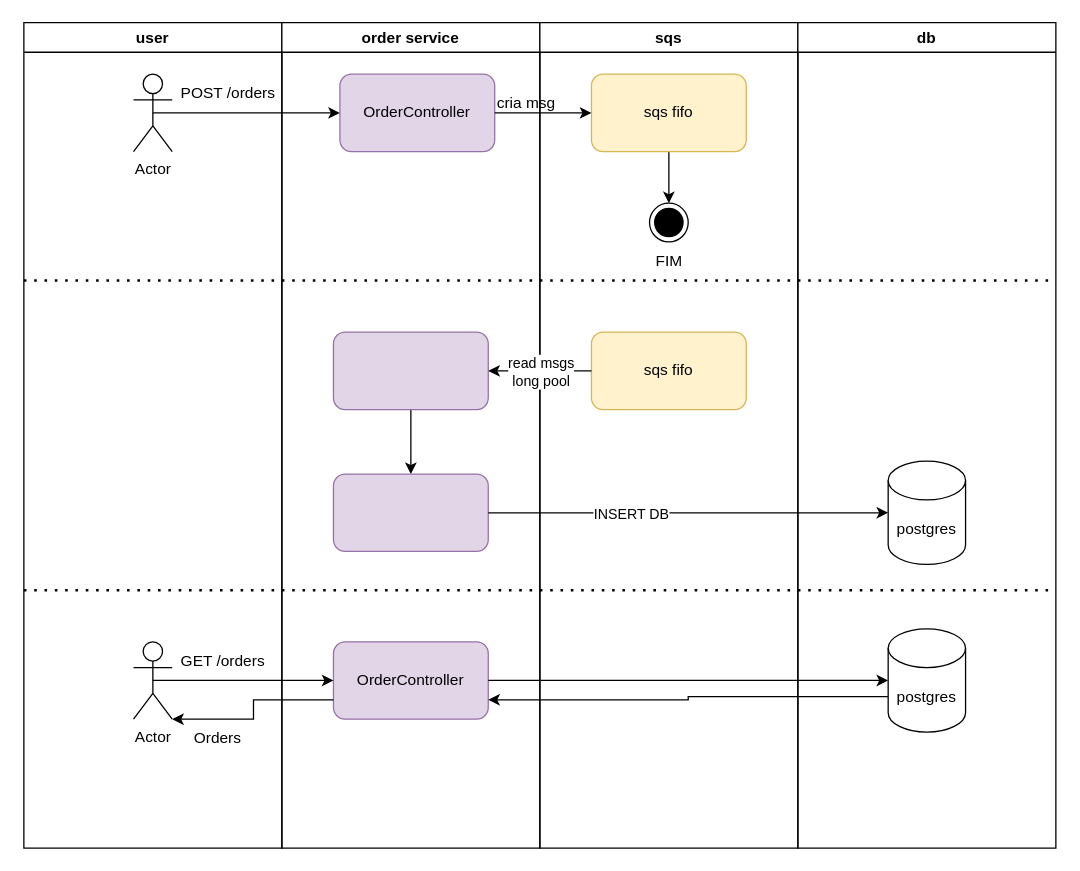
This 1080x871 diagram has some shape labels left out. Here are the shapes that lost their labels. From the top down, the centre of each, then its label:
(x=410, y=370): OrderJob
(x=410, y=512): calcula total
